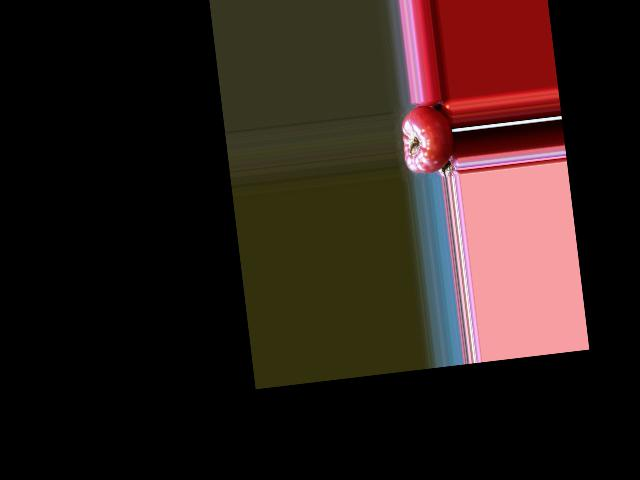tomato: (398, 101, 457, 175)
